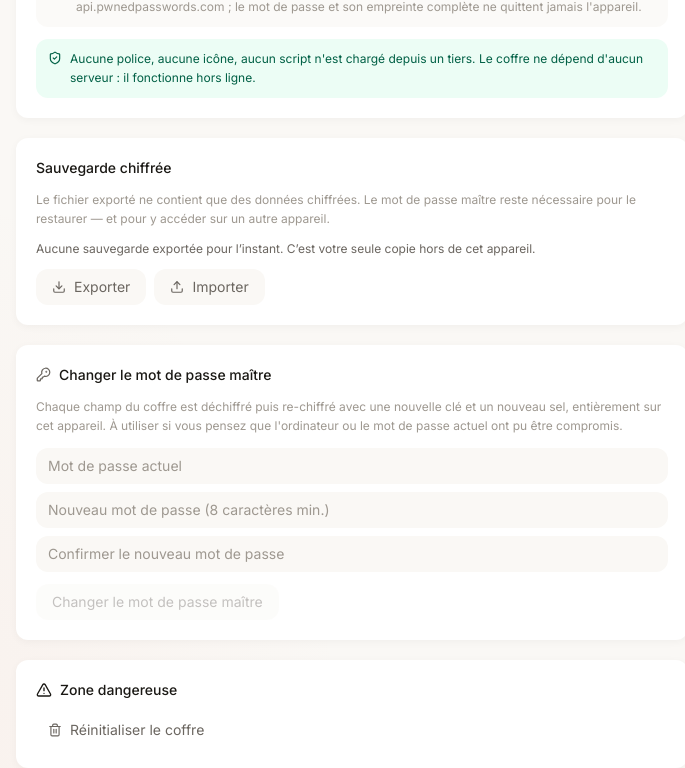
it: SettingsTab — rotation du mot de passe maître › confirms once the vault has been re-encrypted
The width and height of the screenshot is (685, 768).
(page scrolled)
Type "ancien-mdp" into the password field named "Mot de passe maître actuel". click: (352, 466)
box: [36,448,668,484]
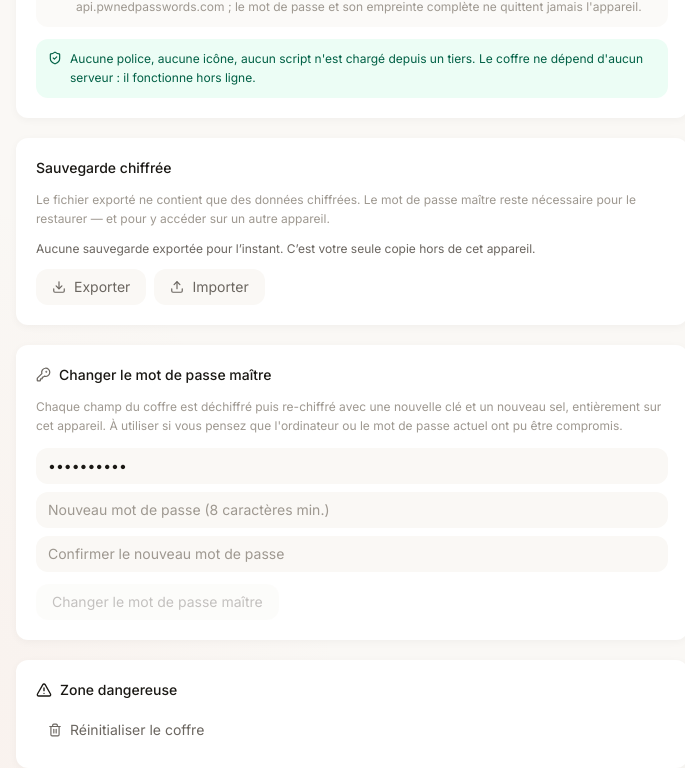
Type "aB3$xY9!qW2#zR7%" into the password field named "Nouveau mot de passe maître". click: (352, 510)
box: [36,492,668,528]
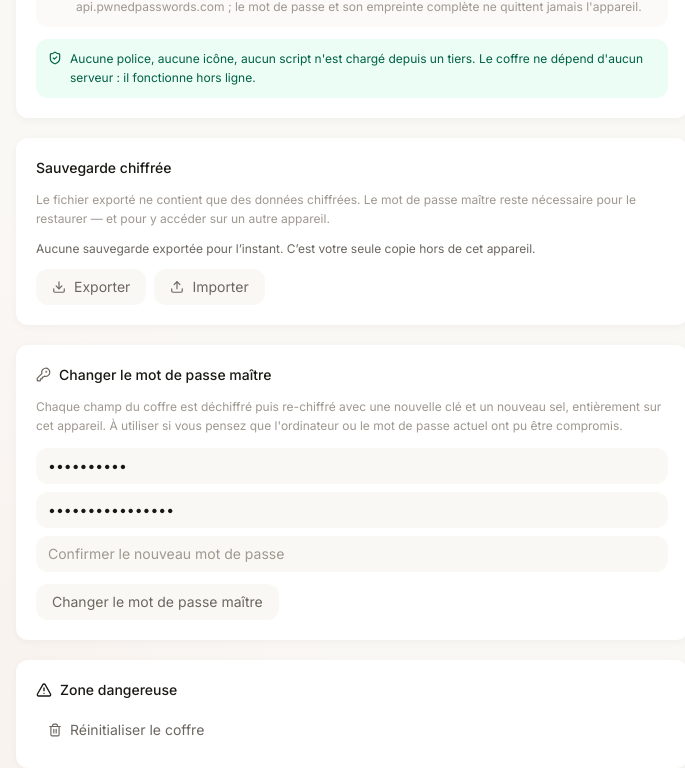
Type "aB3$xY9!qW2#zR7%" into the password field named "Confirmer le nouveau mot de passe maître". click: (352, 554)
box: [36,536,668,572]
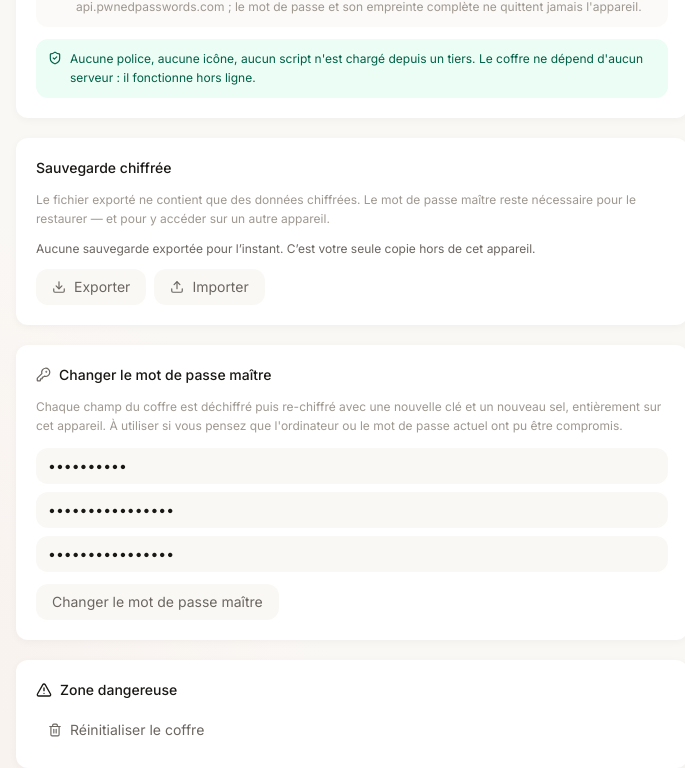
Click the button "Changer le mot de passe maître". click: (157, 602)
box: [36,584,279,620]
(page scrolled)
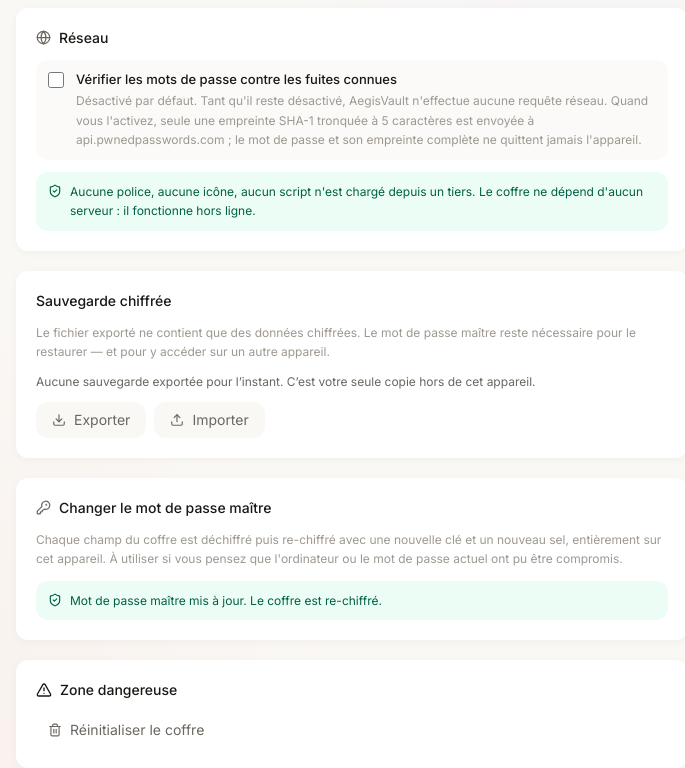
Now the text "Mot de passe maître mis à jour. Le coffre est re-chiffré." is shown, box [70,590,382,610]
